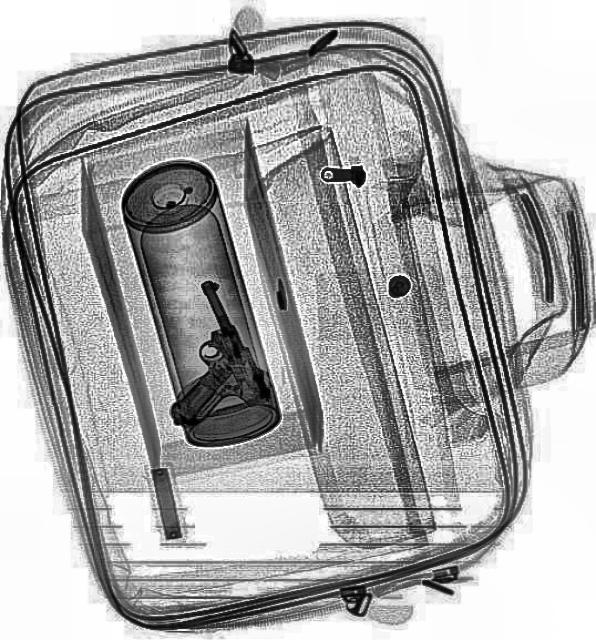Gun: (121, 272, 275, 436)
